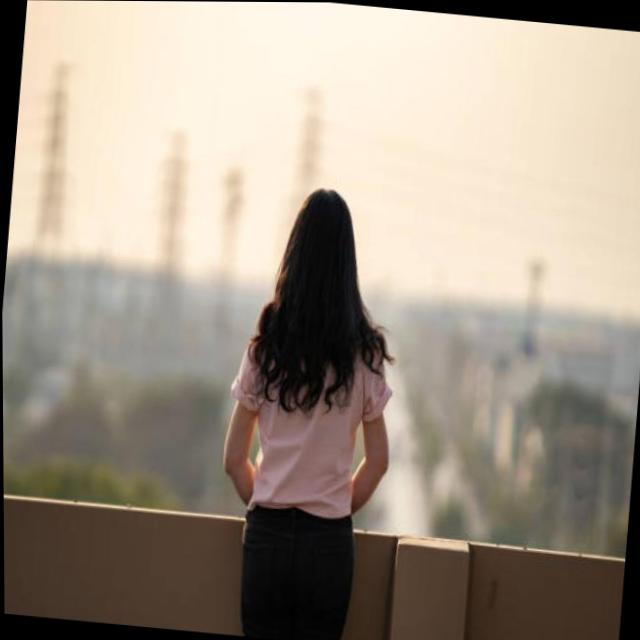no helmet: (276, 183, 367, 320)
